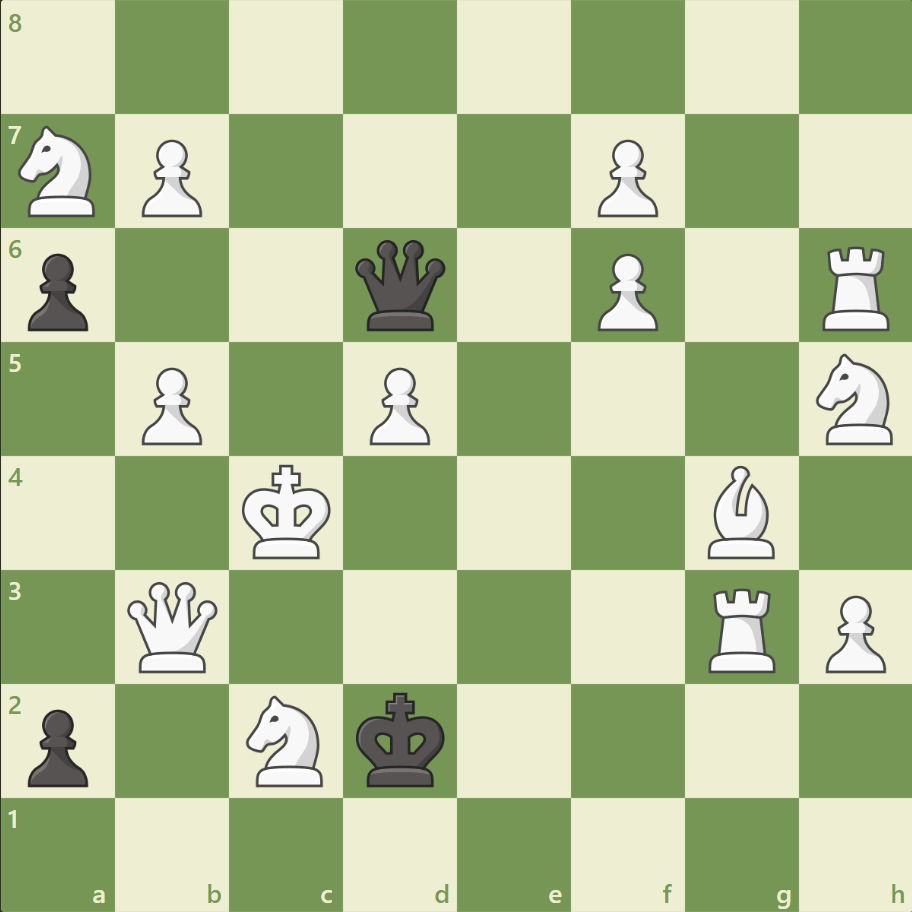B: (698, 460, 782, 563)
K: (238, 458, 338, 566)
N: (238, 688, 335, 791), (11, 121, 108, 223), (806, 348, 903, 450)
P: (133, 132, 208, 223), (133, 359, 208, 450), (588, 132, 662, 223), (588, 246, 662, 337), (361, 359, 435, 450), (815, 586, 889, 677)
Q: (124, 576, 223, 676)
R: (814, 239, 897, 336), (700, 579, 783, 676)
k: (351, 685, 451, 793)
p: (20, 246, 95, 337), (20, 700, 95, 791)
q: (351, 236, 450, 335)
